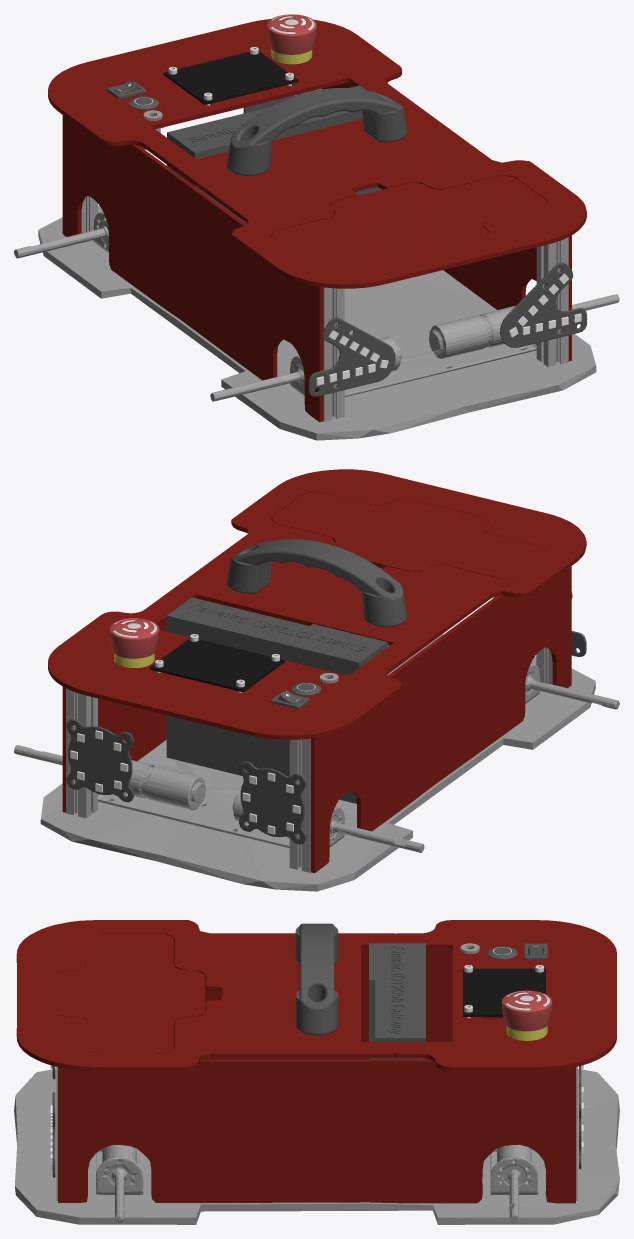
The model's file is eduard-red-chassis.dae.
3 views of the same model, one above another, from view 1: azimuth 30°, elevation 25°; view 2: azimuth 150°, elevation 25°; view 3: azimuth 270°, elevation 25° (orthographic).
Parts seen in each view (by area): view 1: Körper1.064, Körper1.004, Körper1.025, Körper1.063, Körper1.056, Körper1.005, Körper1.062, Körper1, Körper1.002, Körper1.053, Körper1.050, Körper1.084 (+4 smaller); view 2: Körper1.004, Körper1.064, Körper1.025, Körper1.063, Körper1.053, Körper1.056, Körper1.027, Körper1.062, Körper1, Körper1.087, Körper1.054, Körper1.002 (+4 smaller); view 3: Körper1.002, Körper1.064, Körper1.025, Körper1.063, Körper1.056, Körper1.053, Körper1.062, Körper1.004, Körper1, Körper1.027, Körper1.005, Körper10.
Part boxes in pixels (bbox=[...]): Körper1.064: bbox=[156, 93, 586, 288]; Körper1.004: bbox=[62, 115, 323, 422]; Körper1.025: bbox=[38, 205, 596, 440]; Körper1.063: bbox=[48, 19, 401, 156]; Körper1.056: bbox=[271, 176, 546, 261]; Körper1.005: bbox=[210, 294, 619, 401]; Körper1.062: bbox=[227, 88, 407, 175]; Körper1: bbox=[163, 51, 298, 104]; Körper1.002: bbox=[322, 82, 571, 361]; Körper1.053: bbox=[167, 85, 381, 224]; Körper1.050: bbox=[500, 262, 587, 347]; Körper1.084: bbox=[308, 317, 395, 396]; Körper1.004: bbox=[310, 566, 571, 873]; Körper1.064: bbox=[156, 469, 586, 664]; Körper1.025: bbox=[40, 634, 595, 891]; Körper1.063: bbox=[48, 601, 401, 739]; Körper1.053: bbox=[166, 597, 387, 803]; Körper1.056: bbox=[272, 492, 546, 578]; Körper1.027: bbox=[14, 745, 424, 852]; Körper1.062: bbox=[226, 539, 407, 627]; Körper1: bbox=[150, 638, 284, 692]; Körper1.087: bbox=[66, 719, 134, 802]; Körper1.054: bbox=[239, 761, 306, 844]; Körper1.002: bbox=[62, 620, 166, 812]; Körper1.002: bbox=[58, 1059, 575, 1203]; Körper1.064: bbox=[16, 920, 394, 1071]; Körper1.025: bbox=[14, 1068, 619, 1224]; Körper1.063: bbox=[395, 920, 616, 1071]; Körper1.056: bbox=[56, 933, 204, 1053]; Körper1.053: bbox=[369, 943, 425, 1059]; Körper1.062: bbox=[295, 923, 338, 1035]; Körper1.004: bbox=[173, 942, 503, 1059]; Körper1: bbox=[463, 968, 545, 1016]; Körper1.027: bbox=[490, 1144, 538, 1223]; Körper1.005: bbox=[96, 1144, 143, 1222]; Körper10: bbox=[501, 990, 552, 1031].
Size of the model in its own units: 0.2996 by 0.3837 by 0.1461.
